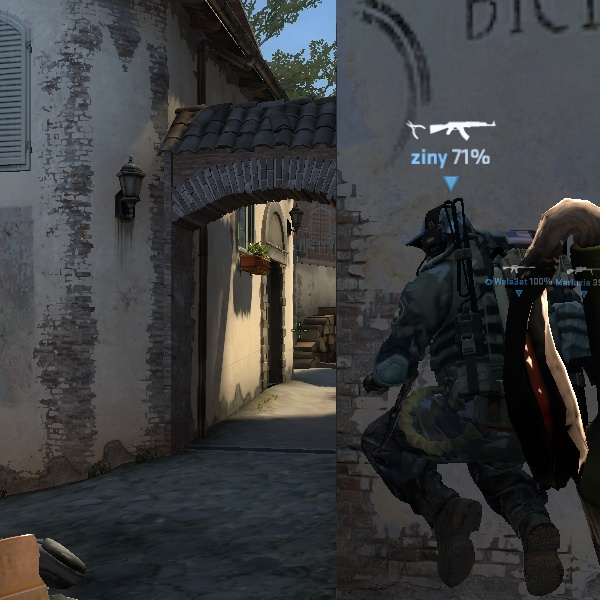ct_body: (356, 187, 574, 600)
ct_head: (402, 189, 496, 275)
